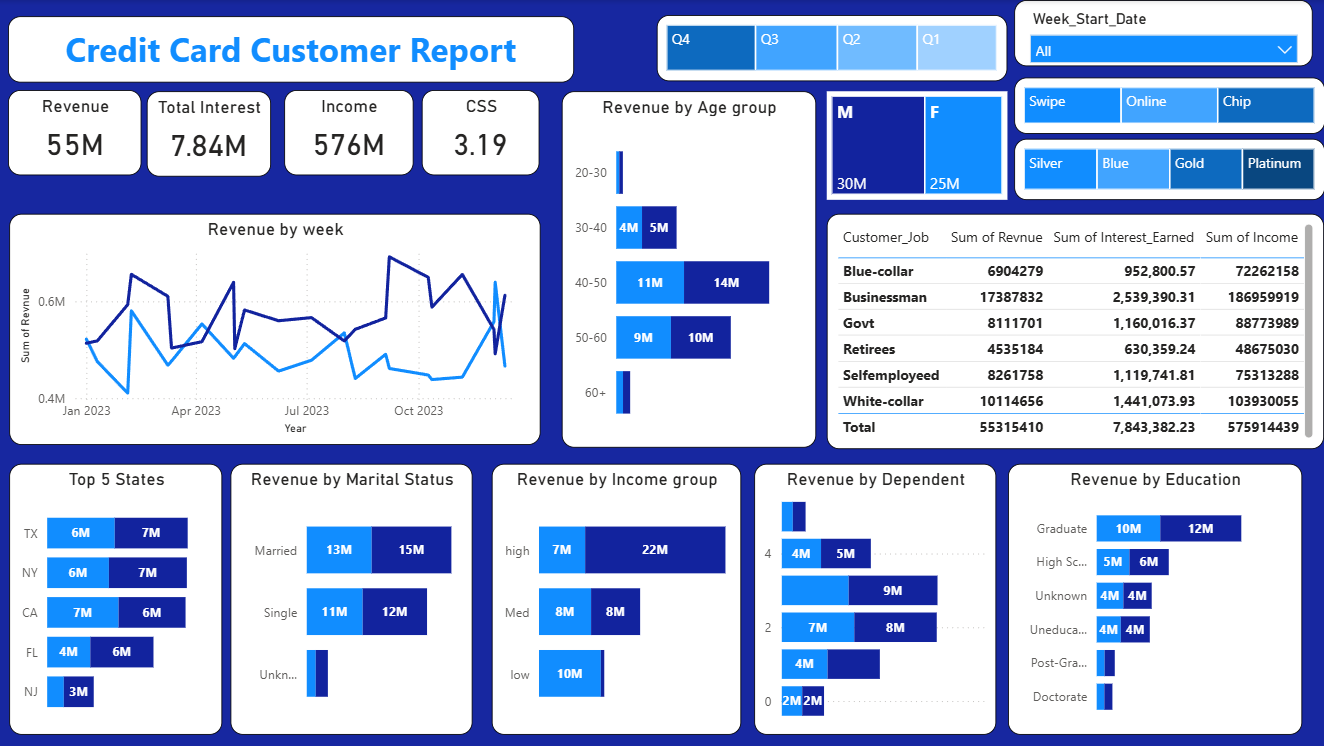

This screenshot's page, from the dashboard's own definition file:
{"tool":"powerbi","page":{"name":"cc customer","canvas":[1280,720],"ordinal":1},"visuals":[{"type":"textbox","box":[9.7,15.7,512.7,63.9],"z":0},{"type":"barChart","title":"Revenue by Income group","fields":{"Category":["customer.income group"],"Series":["customer.Gender"],"Y":["Sum(credit_card.Revnue)"]},"box":[476.7,447.7,240.7,261.6],"z":1000},{"type":"tableEx","fields":{"Values":["customer.Customer_Job","Sum(credit_card.Revnue)","Sum(credit_card.Interest_Earned)","Sum(customer.Income)"]},"box":[800.4,205.9,479.8,229.3],"z":2000},{"type":"card","title":"Revenue","fields":{"Values":["Sum(credit_card.Revnue)"]},"box":[9.3,87.2,129.1,82.6],"z":3000},{"type":"card","title":"Income","fields":{"Values":["Sum(customer.Income)"]},"box":[276.7,87.2,124.4,82.6],"z":4000},{"type":"card","title":"Total Interest","fields":{"Values":["Sum(credit_card.Interest_Earned)"]},"box":[143,88.4,119.8,82.6],"z":5000},{"type":"card","title":"CSS","fields":{"Values":["Avg(customer.Cust_Satisfaction_Score)"]},"box":[409.3,87.2,114,82.6],"z":6000},{"type":"slicer","fields":{"Values":["credit_card.Week_Start_Date"]},"box":[980.2,0,288.4,64],"z":7000},{"type":"treemap","fields":{"Group":["credit_card.Qtr"],"Values":["Avg(credit_card.Client_Num)"]},"box":[544.3,14.5,429.7,63.5],"z":8000},{"type":"treemap","fields":{"Group":["credit_card.Card_Category"],"Values":["Avg(credit_card.Client_Num)"]},"box":[980.7,133.6,288.3,59],"z":9000},{"type":"lineChart","title":"Revenue by week ","fields":{"Category":["credit_card.Week_Start_Date.Variation.Date Hierarchy.Year","credit_card.Week_Start_Date.Variation.Date Hierarchy.Month","credit_card.Week_Start_Date.Variation.Date Hierarchy.Day"],"Series":["customer.Gender"],"Y":["Sum(credit_card.Revnue)"]},"box":[10.5,205.8,512.8,223.3],"z":10000},{"type":"treemap","fields":{"Group":["customer.Gender"],"Values":["Sum(credit_card.Revnue)"]},"box":[800,88.4,174.4,104.7],"z":11000},{"type":"barChart","title":"Revenue by Age group","fields":{"Category":["customer.AgeGroup"],"Series":["customer.Gender"],"Y":["Sum(credit_card.Revnue)"]},"box":[544.2,88.4,245.3,344.2],"z":12000},{"type":"barChart","title":"Revenue by Dependent","fields":{"Category":["customer.Dependent_Count"],"Series":["customer.Gender"],"Y":["Sum(credit_card.Revnue)"]},"box":[730.2,447.7,233.7,261.6],"z":13000},{"type":"barChart","title":"Revenue by Education","fields":{"Category":["customer.Education_Level"],"Series":["customer.Gender"],"Y":["Sum(credit_card.Revnue)"]},"box":[974.4,447.7,283.7,261.6],"z":14000},{"type":"barChart","title":"Top 5 States","fields":{"Category":["customer.state_cd"],"Series":["customer.Gender"],"Y":["Sum(credit_card.Revnue)"]},"box":[10.5,447.7,205.8,261.6],"z":15000},{"type":"barChart","title":"Revenue by Marital Status","fields":{"Category":["customer.Marital_Status"],"Series":["customer.Gender"],"Y":["Sum(credit_card.Revnue)"]},"box":[224.4,447.7,233.7,261.6],"z":16000},{"type":"treemap","fields":{"Group":["credit_card.Use Chip"],"Values":["Avg(credit_card.Client_Num)"]},"box":[980.7,74.6,288.3,54.5],"z":17000}]}

Visuals, with their boxes in screenshot pixels (x1, y1, x2, y2), scaled from the page's 1280x720 canvas onto the 1324x746 screenshot:
textbox: (10,16,540,82)
"Revenue by Income group" barChart: (493,464,742,735)
tableEx - customer.Customer_Job x Sum(credit_card.Revnue): (828,213,1323,451)
"Revenue" card: (10,90,143,176)
"Income" card: (286,90,415,176)
"Total Interest" card: (148,92,272,177)
"CSS" card: (423,90,541,176)
slicer - credit_card.Week_Start_Date: (1014,0,1312,66)
treemap - credit_card.Qtr x Avg(credit_card.Client_Num): (563,15,1007,81)
treemap - credit_card.Card_Category x Avg(credit_card.Client_Num): (1014,138,1313,200)
"Revenue by week " lineChart: (11,213,541,445)
treemap - customer.Gender x Sum(credit_card.Revnue): (828,92,1008,200)
"Revenue by Age group" barChart: (563,92,817,448)
"Revenue by Dependent" barChart: (755,464,997,735)
"Revenue by Education" barChart: (1008,464,1301,735)
"Top 5 States" barChart: (11,464,224,735)
"Revenue by Marital Status" barChart: (232,464,474,735)
treemap - credit_card.Use Chip x Avg(credit_card.Client_Num): (1014,77,1313,134)
